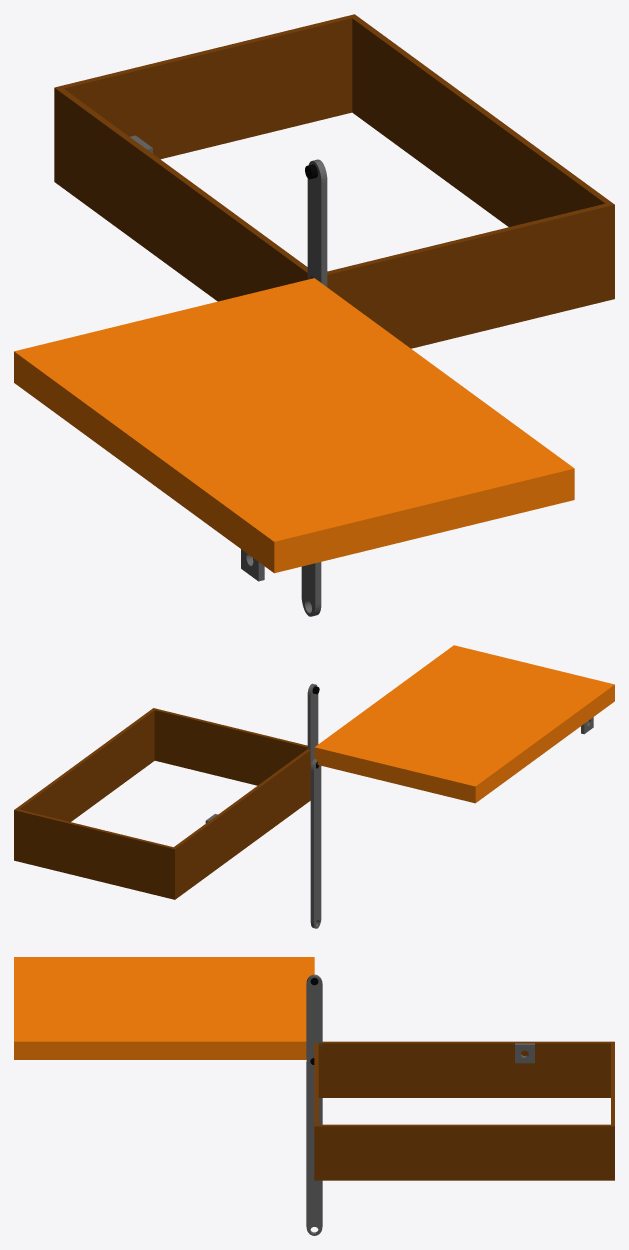
Rendered from Box_Trapdoor.fbx.
3 views of the same model, one above another, from view 1: azimuth 30°, elevation 25°; view 2: azimuth 150°, elevation 25°; view 3: azimuth 270°, elevation 25° (orthographic). The views are drawn at different scales.
Visible parts, largest first — view 1: Trapdoor_150x100_H, Box_150x100_H, Shoulder_Box, Shoulder_Trapdoor; view 2: Box_150x100_H, Trapdoor_150x100_H, Shoulder_Trapdoor, Shoulder_Box; view 3: Box_150x100_H, Trapdoor_150x100_H, Shoulder_Trapdoor, Shoulder_Box.
Boxes of the visible parts, x1=… form: Trapdoor_150x100_H: x1=14, y1=278, x2=574, y2=581; Box_150x100_H: x1=54, y1=14, x2=614, y2=348; Shoulder_Box: x1=305, y1=159, x2=327, y2=286; Shoulder_Trapdoor: x1=301, y1=562, x2=321, y2=616; Box_150x100_H: x1=14, y1=708, x2=310, y2=899; Trapdoor_150x100_H: x1=314, y1=645, x2=614, y2=803; Shoulder_Trapdoor: x1=310, y1=759, x2=321, y2=928; Shoulder_Box: x1=307, y1=683, x2=319, y2=767; Box_150x100_H: x1=314, y1=1041, x2=614, y2=1180; Trapdoor_150x100_H: x1=14, y1=957, x2=314, y2=1059; Shoulder_Trapdoor: x1=306, y1=1058, x2=322, y2=1235; Shoulder_Box: x1=306, y1=974, x2=322, y2=1066.
Bounding box in the file's own units: 200 × 144 × 300.
